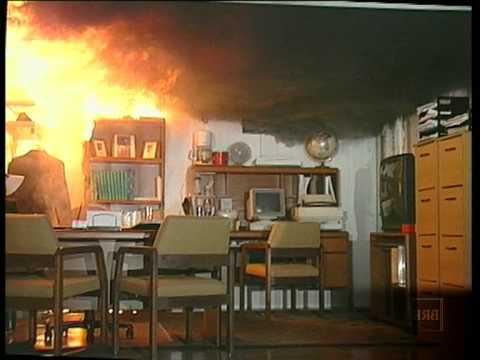fire: (7, 11, 184, 197)
